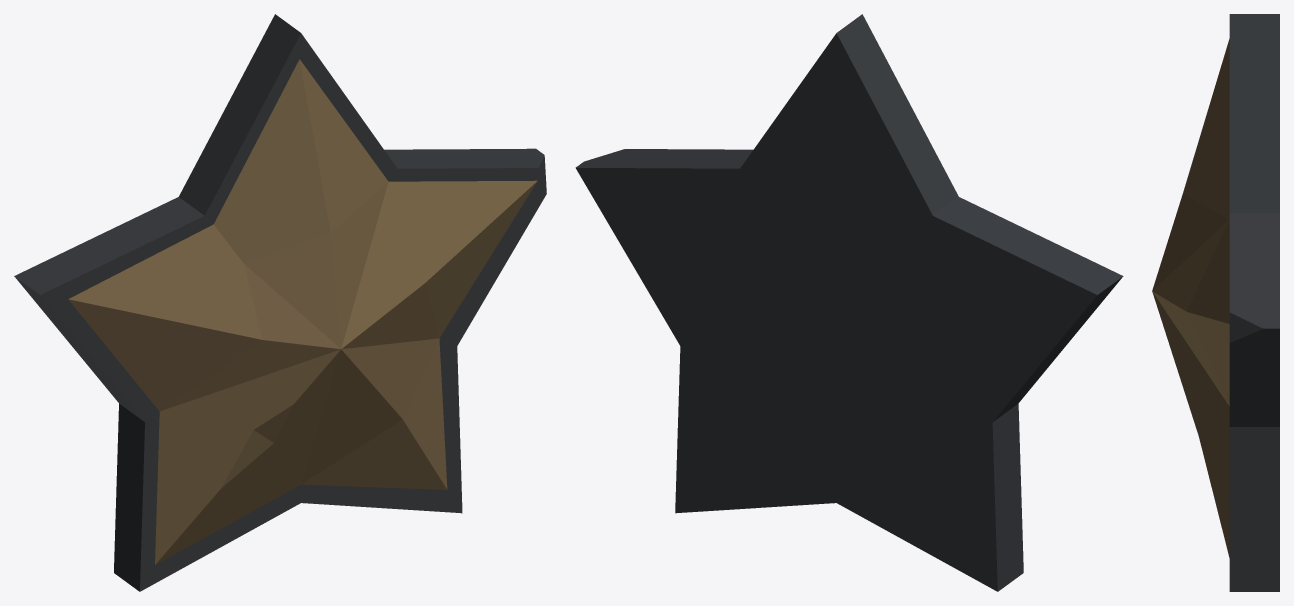
The model's file is SM_Sign_Police_05.fbx.
The picture shows the model from 3 angles, left to right: view 1: azimuth 30°, elevation 25°; view 2: azimuth 150°, elevation 25°; view 3: azimuth 270°, elevation 25°; orthographic projection. The views are drawn at different scales.
Parts seen in each view (by area): view 1: SM_Sign_Police_05; view 2: SM_Sign_Police_05; view 3: SM_Sign_Police_05.
Boxes of the visible parts, x1,y1,x2,y2 form: SM_Sign_Police_05: (14, 14, 546, 591); SM_Sign_Police_05: (575, 14, 1123, 591); SM_Sign_Police_05: (1152, 14, 1279, 591).
Bounding box in the file's own units: 188 × 179 × 41.24.
